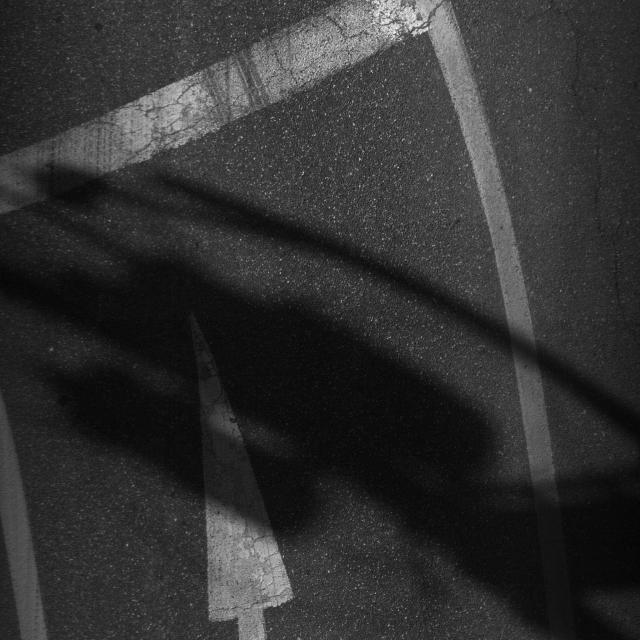forward: (8, 149, 549, 640)
